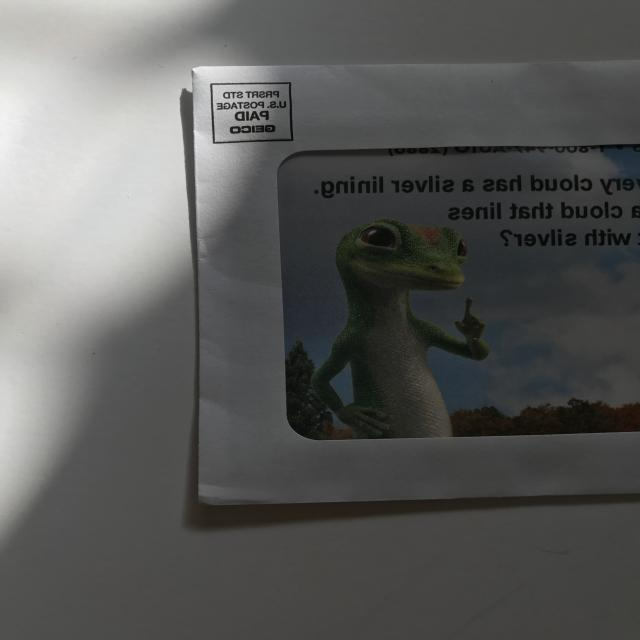paper: (0, 26, 640, 564)
